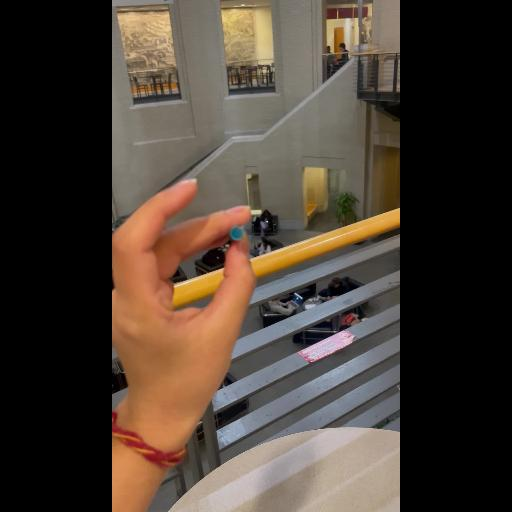straw: (229, 224, 247, 244)
